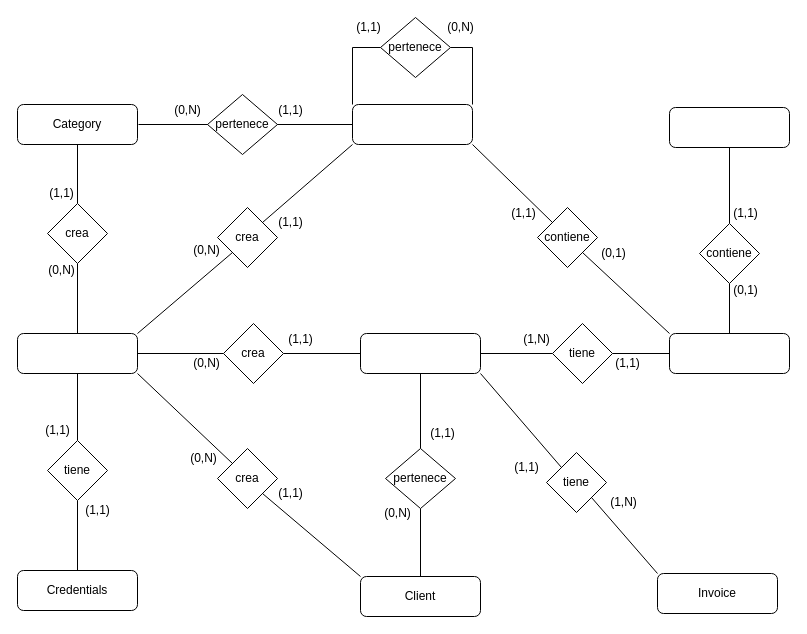
This 807x634 diagram has some shape labels left out. The box of each missing label's shape, as (x1, y1, x2, y2) in pixels:
Comment: (668, 106, 790, 148)
Note: (360, 332, 480, 374)
Note Line: (668, 332, 790, 374)
Product: (352, 104, 472, 144)
User: (16, 332, 138, 374)
